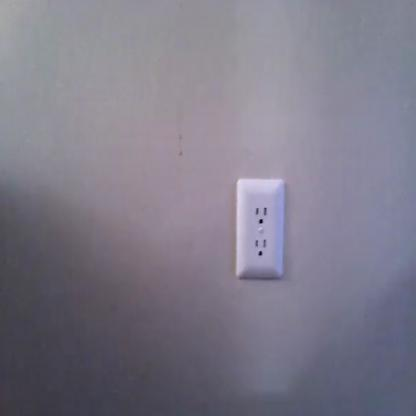OUTLET: (236, 177, 285, 279)
